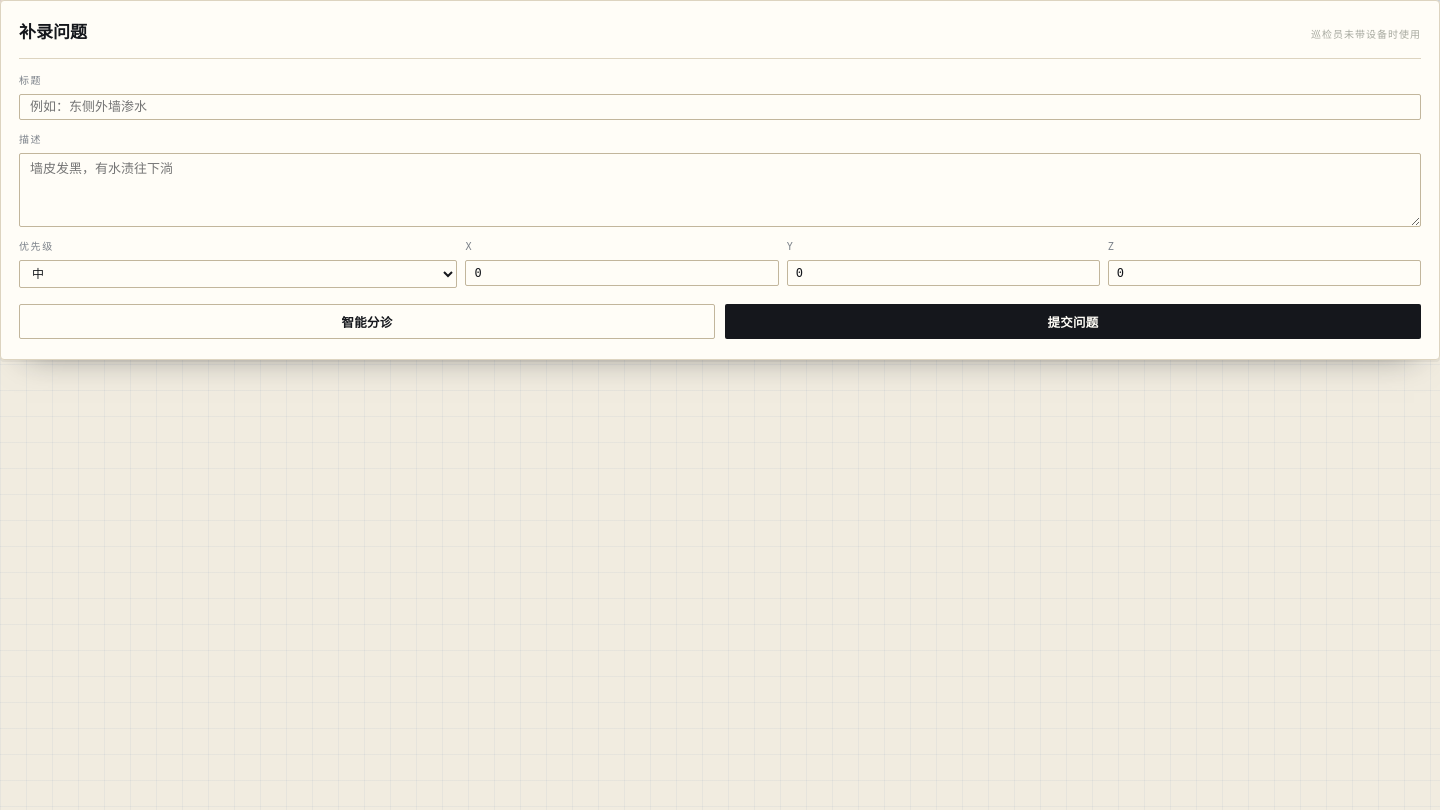
Test: NewIssuePanel 的智能分诊 › 「一键采纳建议优先级」会把表单值改成建议值
The width and height of the screenshot is (1440, 810).
Type "东侧外墙渗水" into the field labelled "标题" at (720, 107), box [19, 94, 1421, 120]
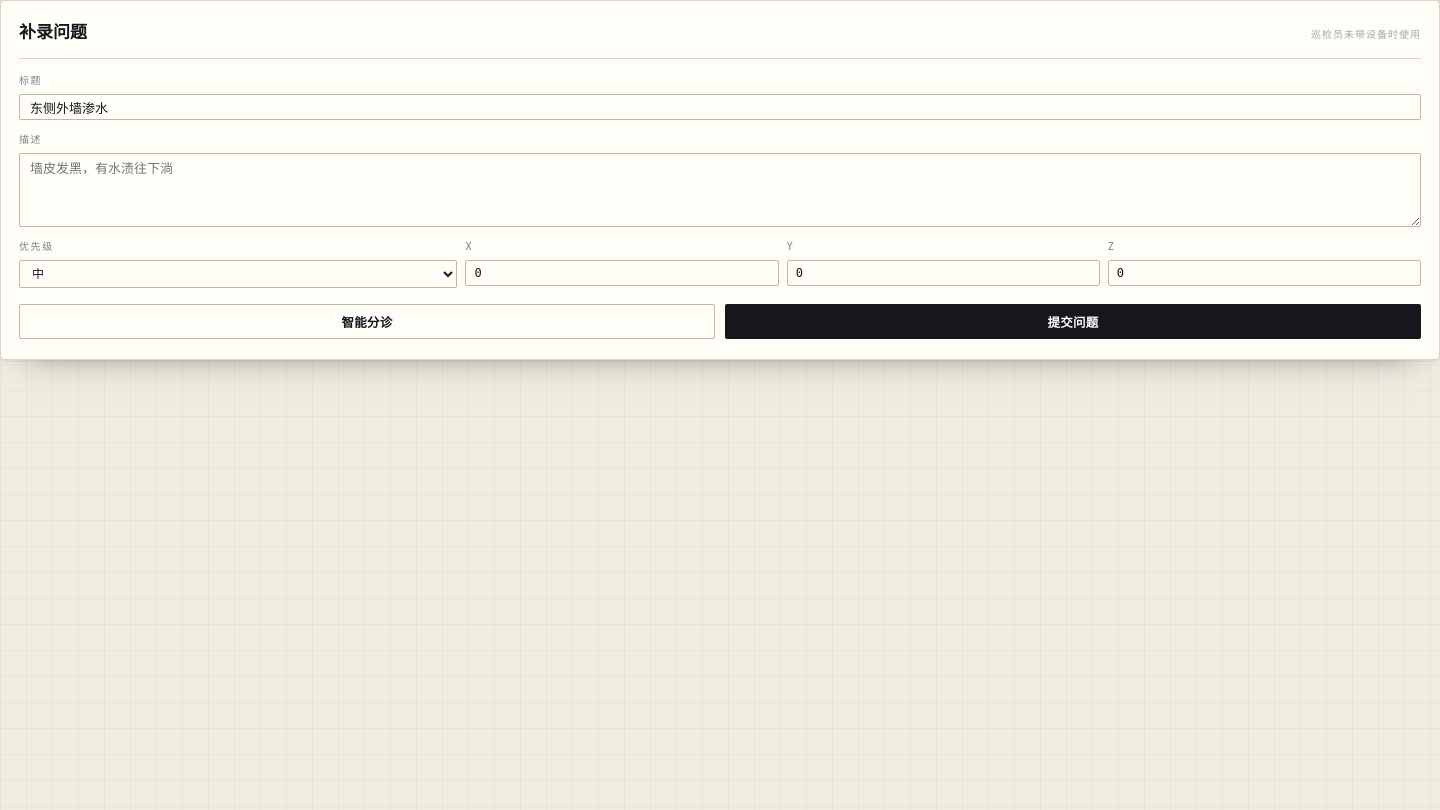
Click the button "智能分诊" at (367, 322), box [19, 304, 715, 339]
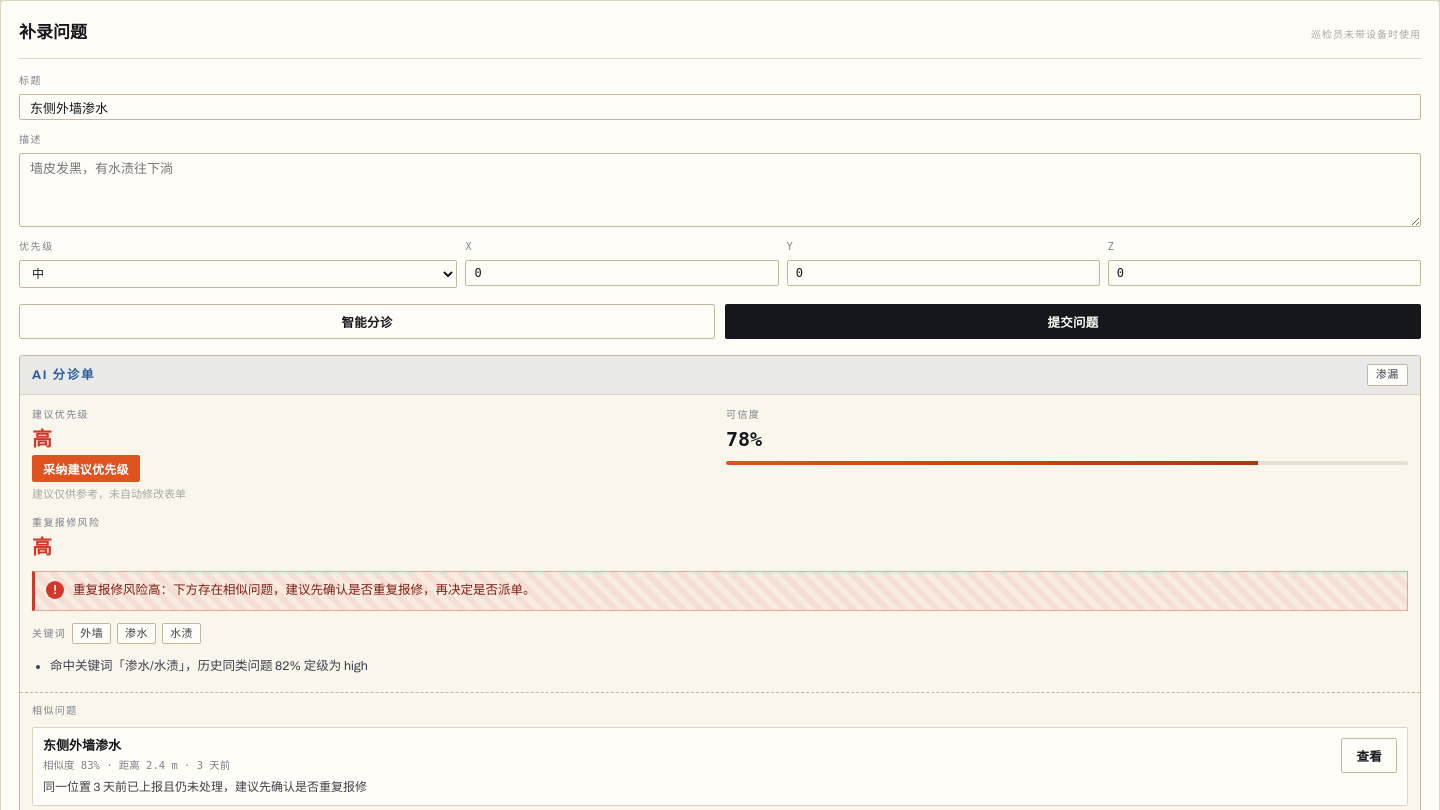
Click the button "采纳建议优先级" at (86, 468), box [32, 455, 140, 482]
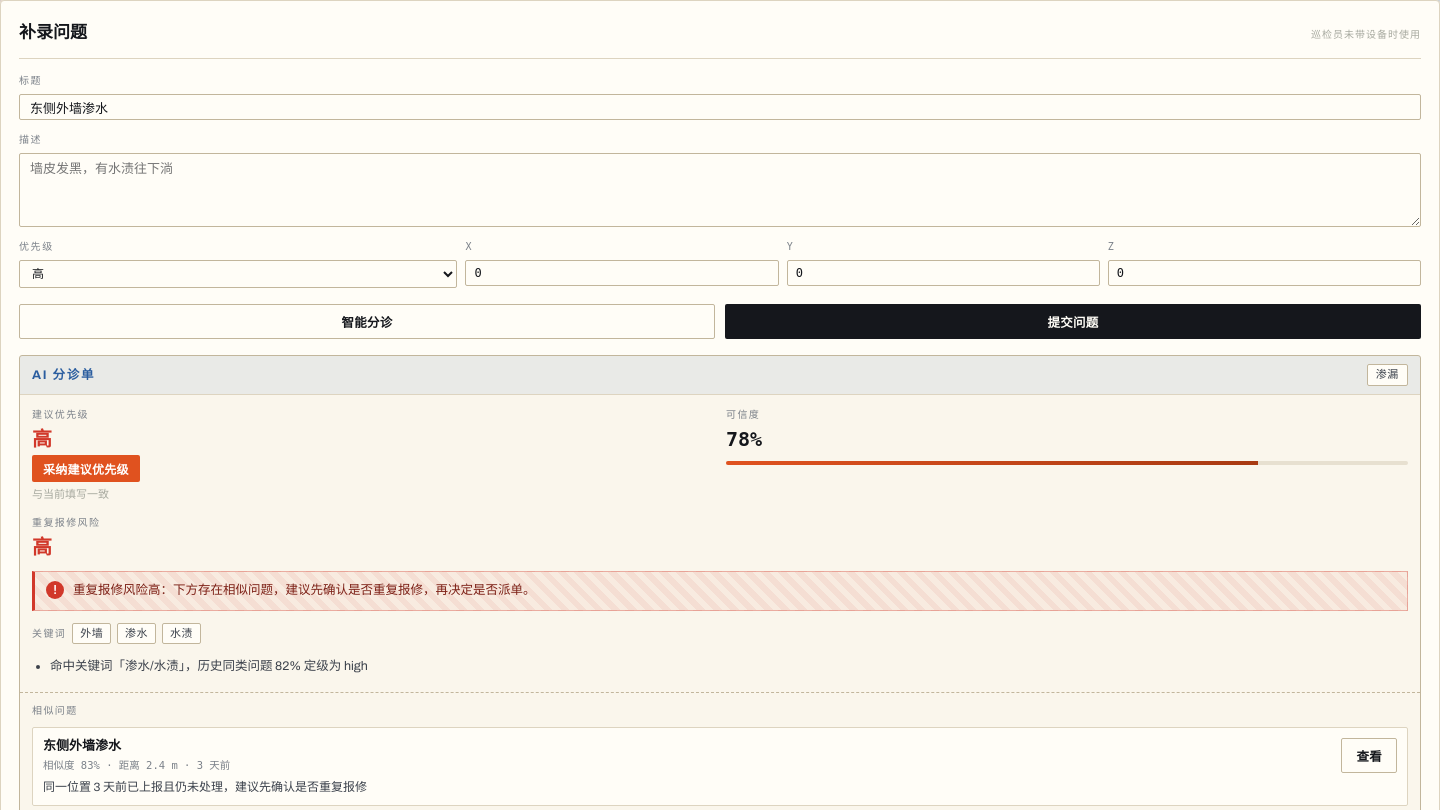
Expected: the dropdown labelled "优先级" shows "高", [19, 260, 458, 288]
